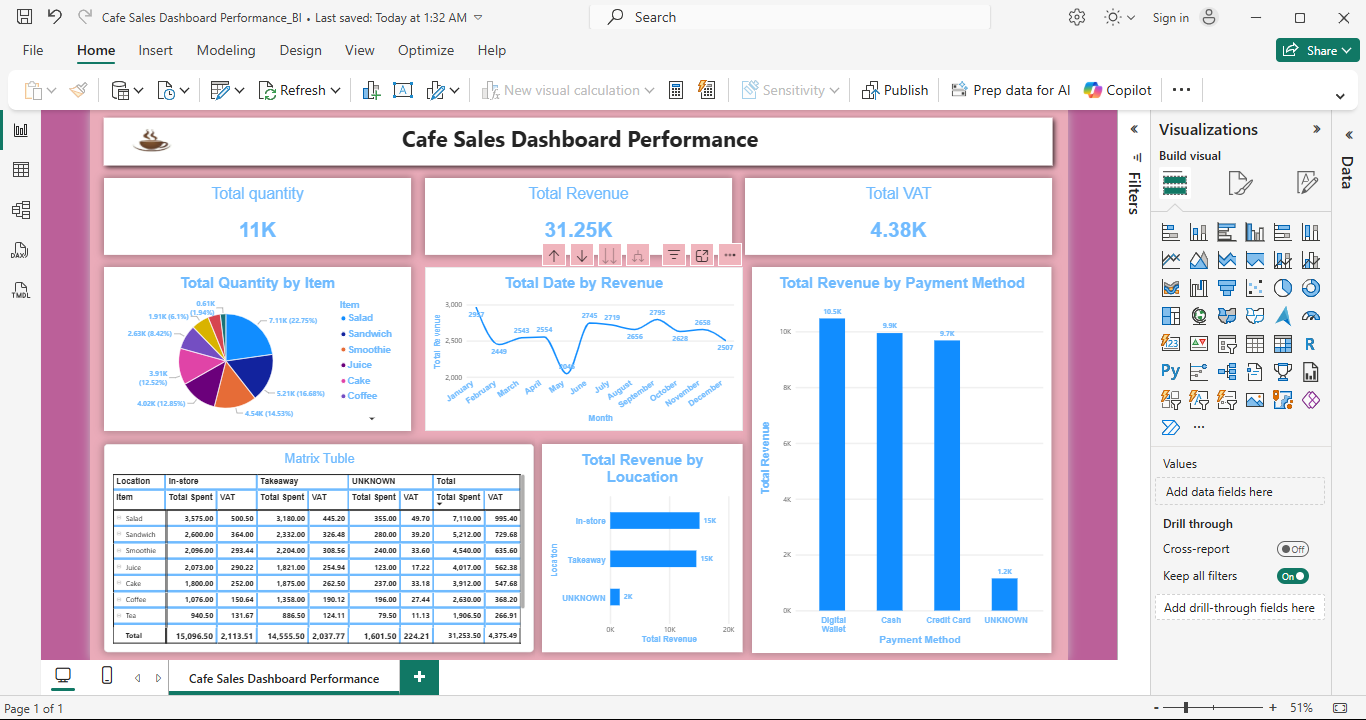

This screenshot's page, from the dashboard's own definition file:
{"tool":"powerbi","page":{"name":"Cafe Sales Dashboard Performance ","canvas":[1920,1080],"ordinal":0},"visuals":[{"type":"pieChart","title":"Total  Quantity by Item","fields":{"Category":["Cafe_sales_clean.Item"],"Y":["Sum(Cafe_sales_clean.Total Spent)"]},"box":[26.8,307.6,602.8,322.1],"z":0},{"type":"shape","box":[12.4,0,1893.2,123.9],"z":1000},{"type":"textbox","box":[46.3,15.4,1842.6,92.6],"z":2000},{"type":"card","title":"Total quantity","fields":{"Values":["Sum(Cafe_sales_clean.Quantity)"]},"box":[26.8,134.2,602.8,150.7],"z":3000},{"type":"card","title":"Total VAT","fields":{"Values":["Cafe_sales_clean.VAT"]},"box":[1286.2,134.2,602.8,150.7],"z":4000},{"type":"card","title":"Total Revenue","fields":{"Values":["Sum(Cafe_sales_clean.Total Spent)"]},"box":[658.6,134.2,602.8,150.7],"z":5000},{"type":"lineChart","title":"Total  Date by Revenue","fields":{"Category":["Cafe_sales_clean.Transaction Date.Variation.Date Hierarchy.Year","Cafe_sales_clean.Transaction Date.Variation.Date Hierarchy.Quarter","Cafe_sales_clean.Transaction Date.Variation.Date Hierarchy.Month"],"Y":["Sum(Cafe_sales_clean.Total Spent)"]},"box":[658.6,307.6,623.5,322.1],"z":6000},{"type":"pivotTable","title":"Matrix Tuble","fields":{"Columns":["Cafe_sales_clean.Location"],"Rows":["Cafe_sales_clean.Item","Cafe_sales_clean.Payment Method"],"Values":["Sum(Cafe_sales_clean.Total Spent)","Cafe_sales_clean.VAT"]},"box":[26.8,656.5,844.4,408.8],"z":7000},{"type":"columnChart","title":"Total Revenue by Payment Method","fields":{"Category":["Cafe_sales_clean.Payment Method"],"Y":["Sum(Cafe_sales_clean.Total Spent)"]},"box":[1300.6,307.6,588.4,757.7],"z":8000},{"type":"barChart","title":"Total Revenue by  Loucation","fields":{"Category":["Cafe_sales_clean.Location"],"Y":["Sum(Cafe_sales_clean.Total Spent)"]},"box":[887.7,656.5,394.3,408.8],"z":8001},{"type":"image","box":[46.3,15.4,147.7,90.4],"z":8002}]}

Visuals, with their boxes on the page's 1920x1080 design canvas (x1, y1, x2, y2). These are canvas units, not pixel positions in the 1366x720 screenshot, which may show the page scaled, cropped or inside an application window:
"Total  Quantity by Item" pieChart: (27, 308, 630, 630)
shape: (12, 0, 1906, 124)
textbox: (46, 15, 1889, 108)
"Total quantity" card: (27, 134, 630, 285)
"Total VAT" card: (1286, 134, 1889, 285)
"Total Revenue" card: (659, 134, 1261, 285)
"Total  Date by Revenue" lineChart: (659, 308, 1282, 630)
"Matrix Tuble" pivotTable: (27, 656, 871, 1065)
"Total Revenue by Payment Method" columnChart: (1301, 308, 1889, 1065)
"Total Revenue by  Loucation" barChart: (888, 656, 1282, 1065)
image: (46, 15, 194, 106)
